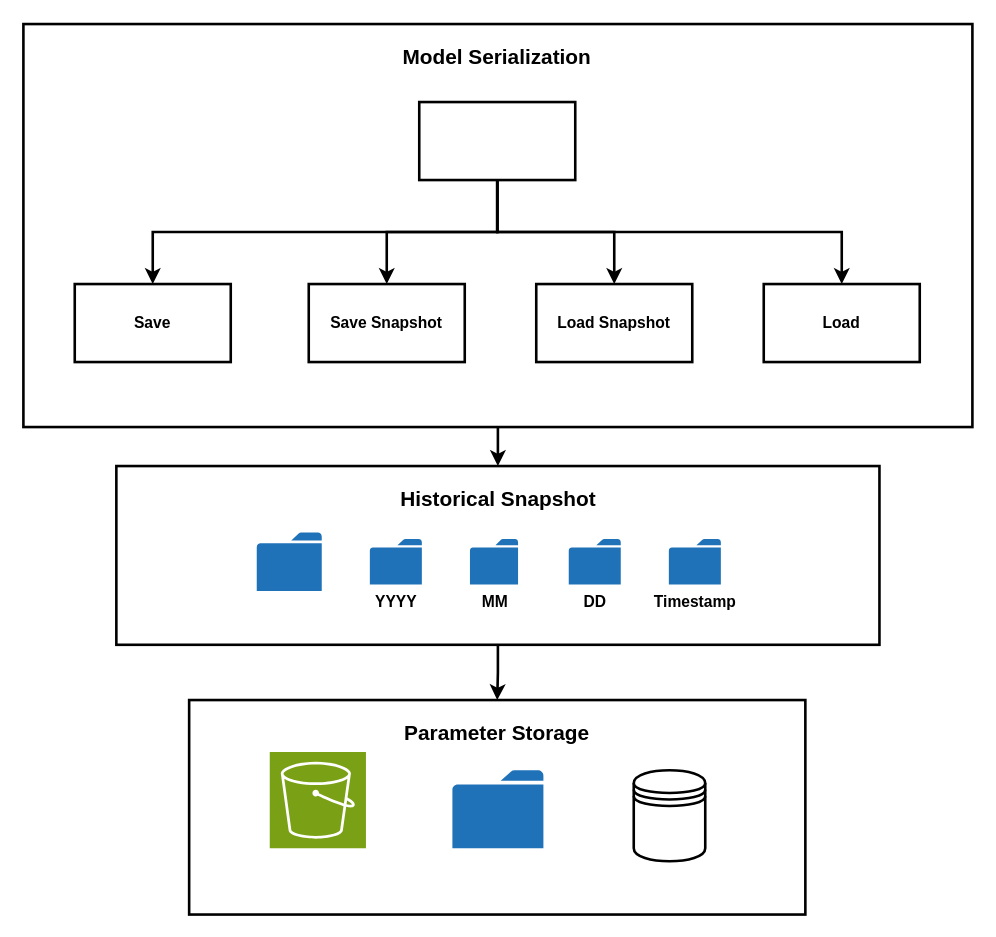
Some shapes in this 996 by 937 pixel diagram are drawn without their labels. The box of each missing label's shape, as (x1, y1, x2, y2) in pixels:
Database: (632, 768, 706, 862)
File System: (452, 770, 543, 848)
Model: (417, 100, 576, 181)
Namespace: (256, 532, 321, 590)
